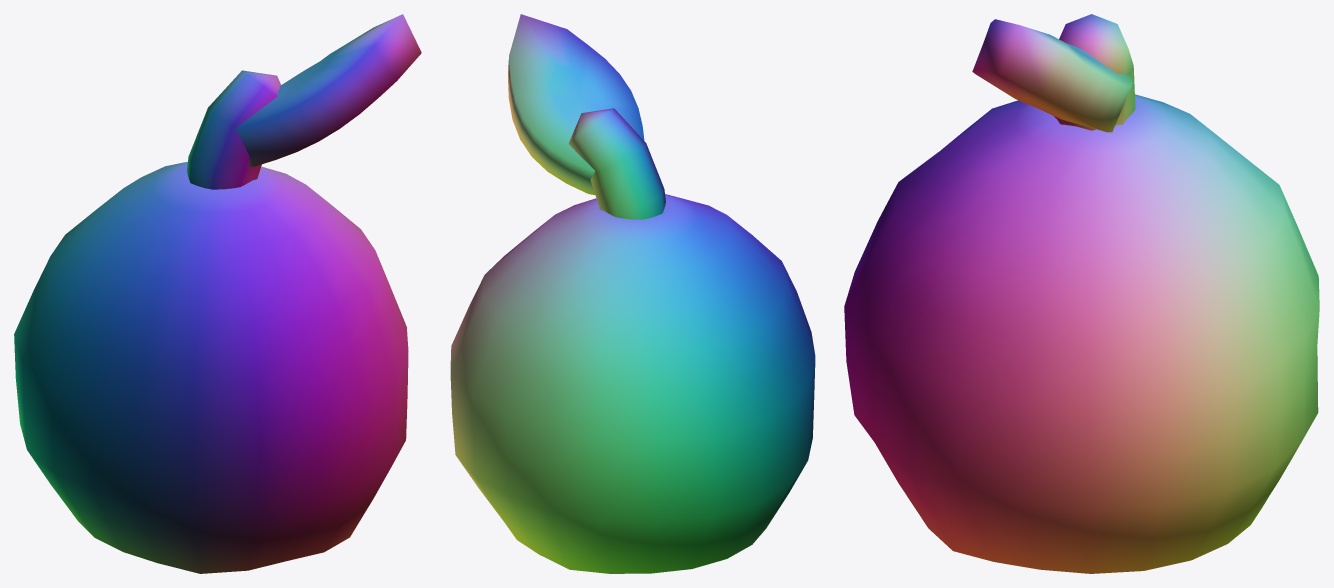
Rendered from SM_Pickup_LeyFruit.fbx.
The picture shows the model from 3 angles, left to right: view 1: azimuth 30°, elevation 25°; view 2: azimuth 150°, elevation 25°; view 3: azimuth 270°, elevation 25°; orthographic projection. The views are drawn at different scales.
Parts seen in each view (by area): view 1: SM_Pickup_LeyFruit; view 2: SM_Pickup_LeyFruit; view 3: SM_Pickup_LeyFruit.
Boxes of the visible parts, <box> form: SM_Pickup_LeyFruit: <box>14,14,421,573</box>; SM_Pickup_LeyFruit: <box>450,14,815,573</box>; SM_Pickup_LeyFruit: <box>844,14,1319,573</box>.
Size of the model in its own units: 0.2246 by 0.3234 by 0.2292.
